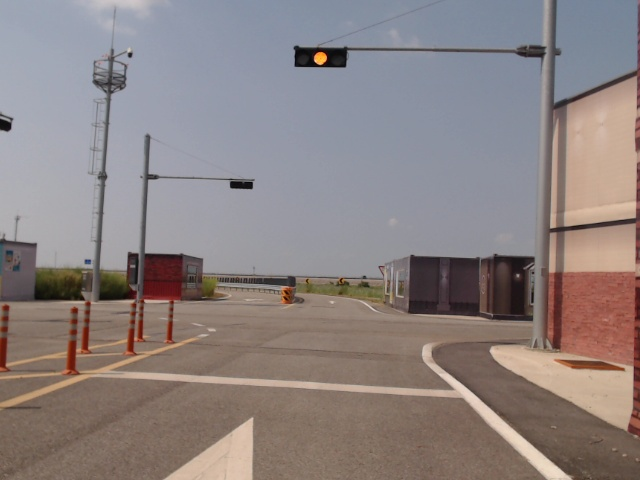orange_3: (294, 47, 347, 68)
